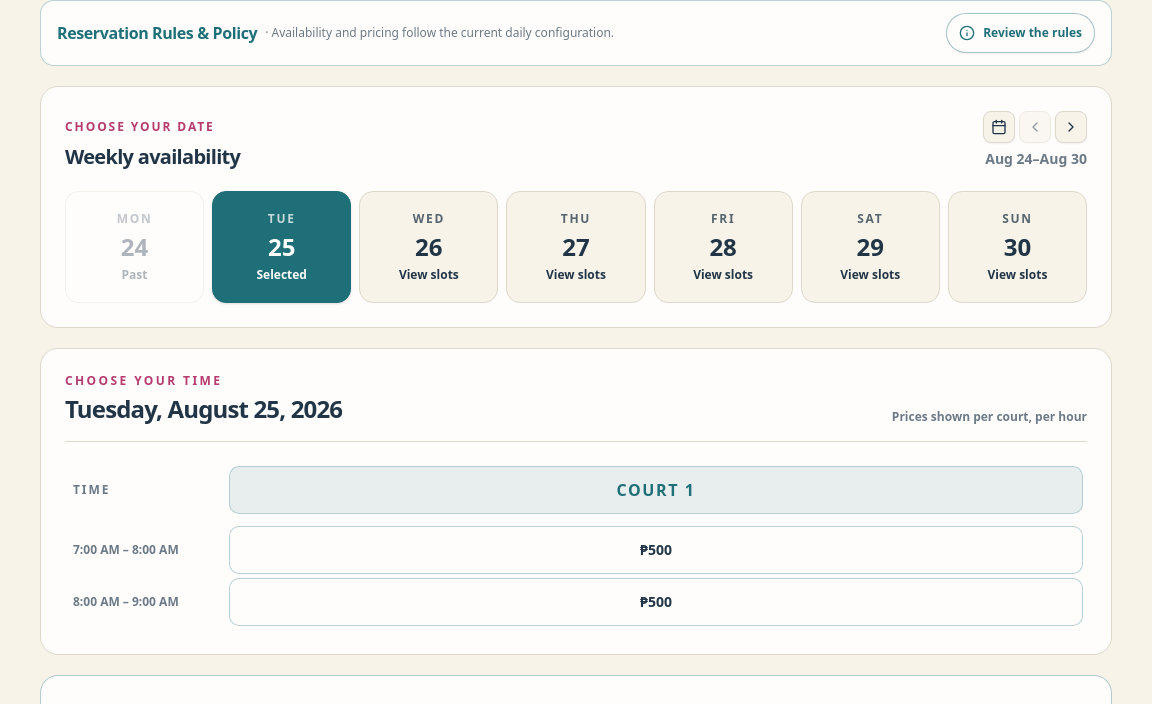
Test case: ReservationExperience › does not allow public date selection after the configured booking window
This screenshot has width=1152, height=704.
What coordinates should you click on to do the following:
click the button named "Next week"
I would click on:
 (1071, 127)
Its box is 1055,111 -> 1087,143.
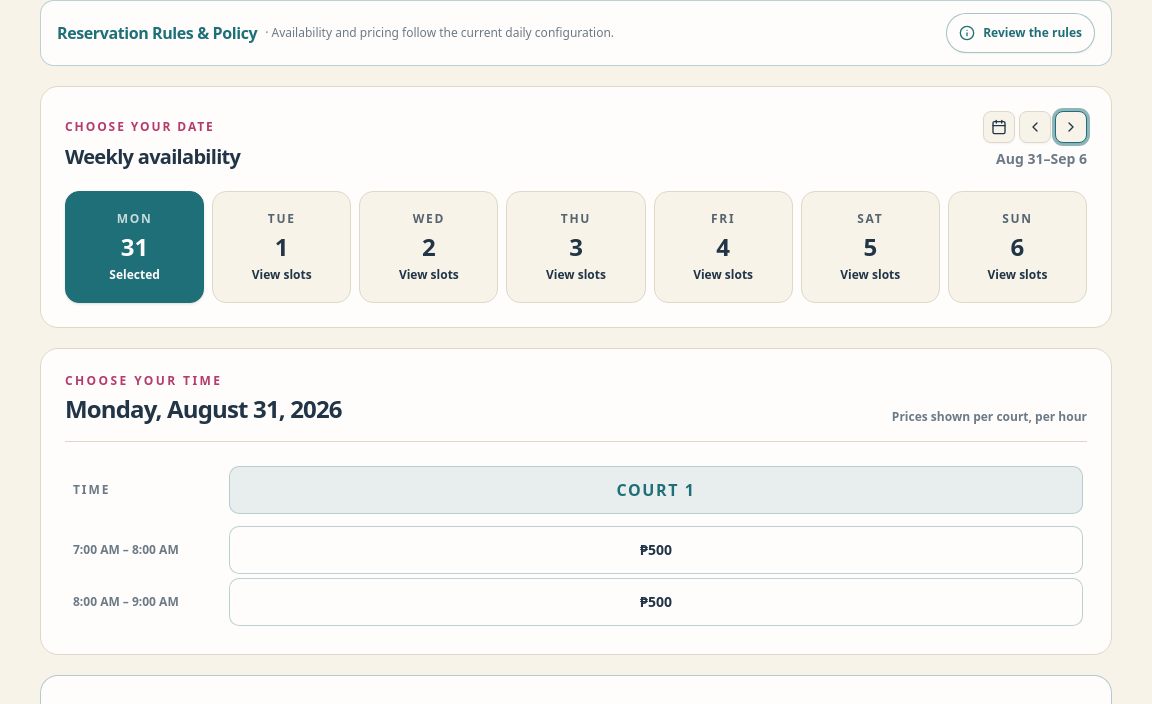
What coordinates should you click on to do the following:
click the button named "Next week"
I would click on:
 (1071, 127)
Its box is 1055,111 -> 1087,143.
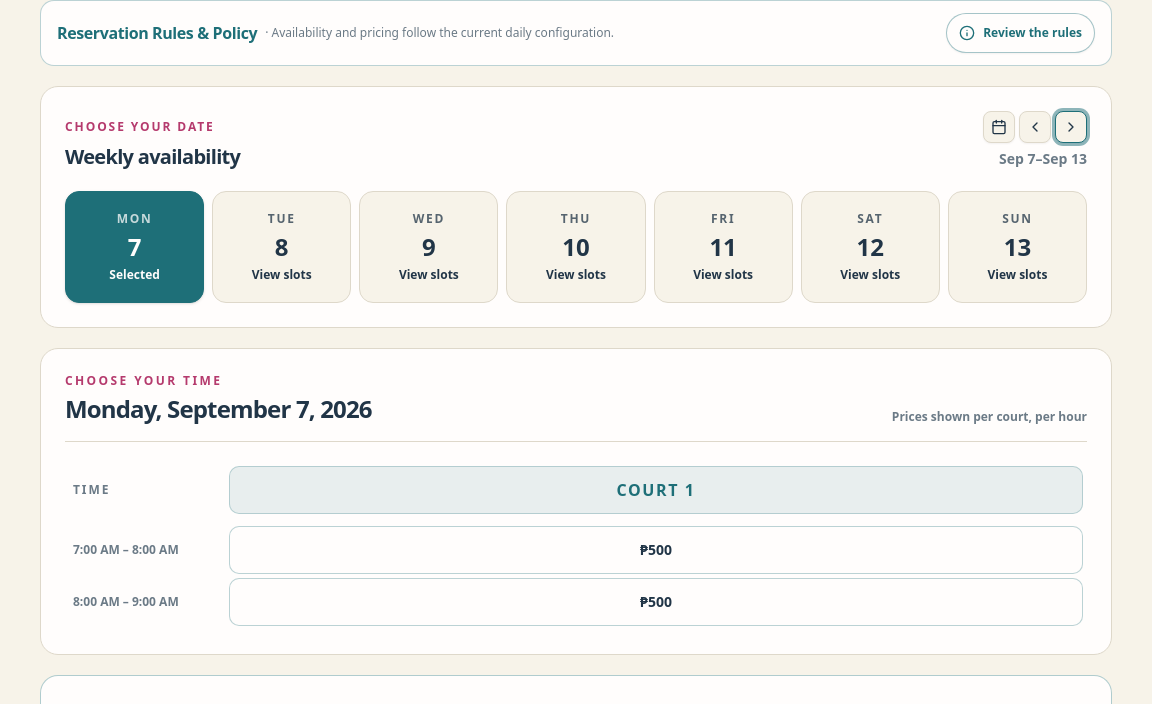
What coordinates should you click on to do the following:
click the button named "Next week"
I would click on:
 (1071, 127)
Its box is 1055,111 -> 1087,143.
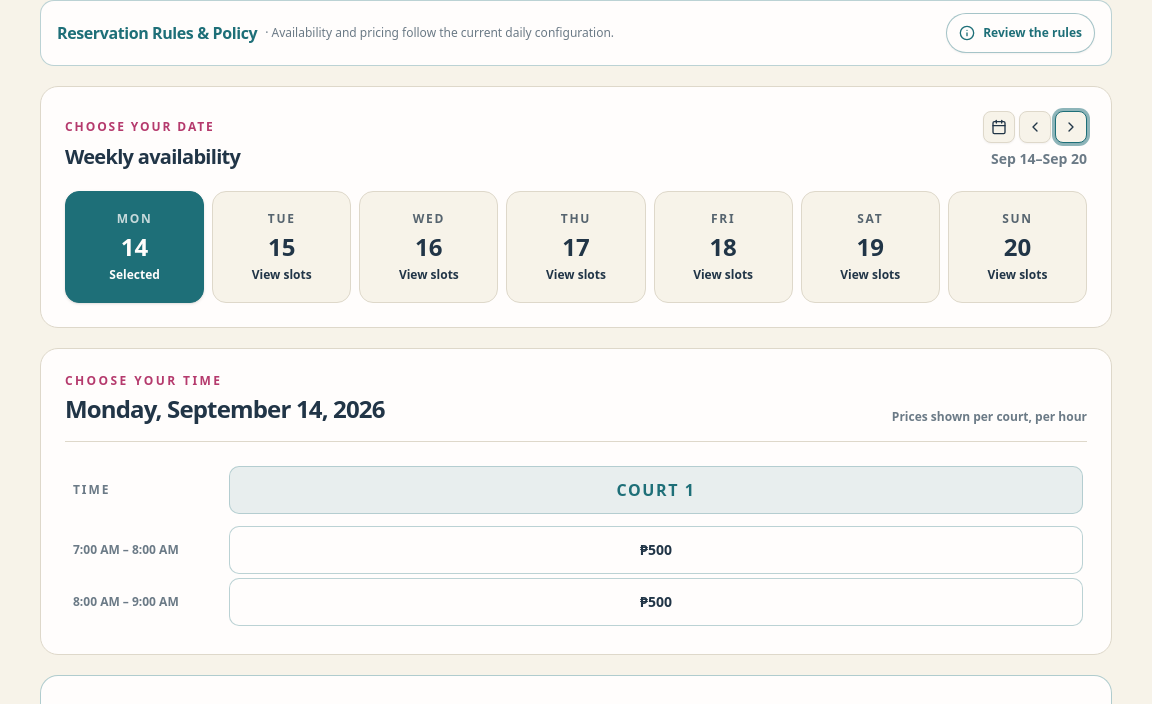
What coordinates should you click on to do the following:
click the button named "Next week"
I would click on:
 (1071, 127)
Its box is 1055,111 -> 1087,143.
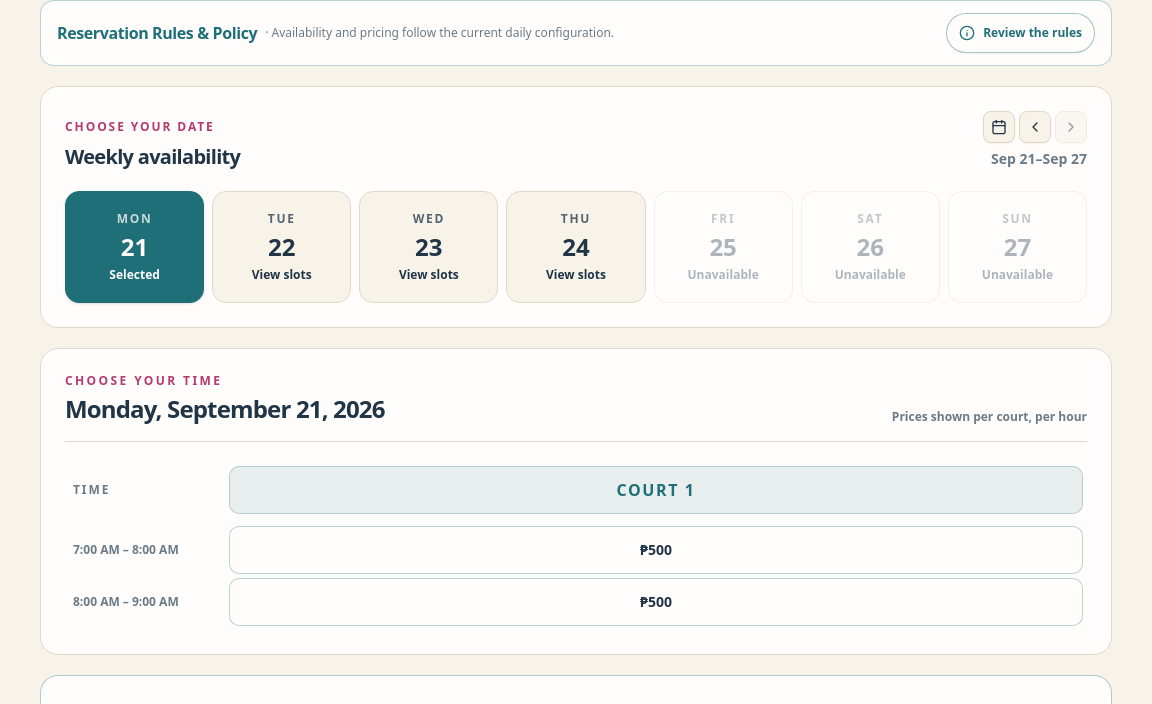
Expected: the button with aria-label "Fri 25, outside online booking window" is disabled, 654,191 -> 793,303
Expected: the button named "Next week" is disabled, 1055,111 -> 1087,143
